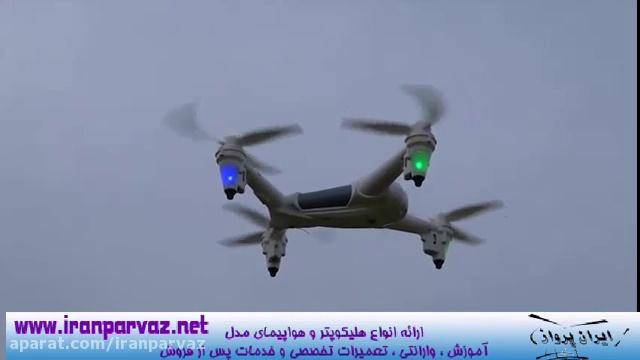drone: (151, 78, 514, 282)
